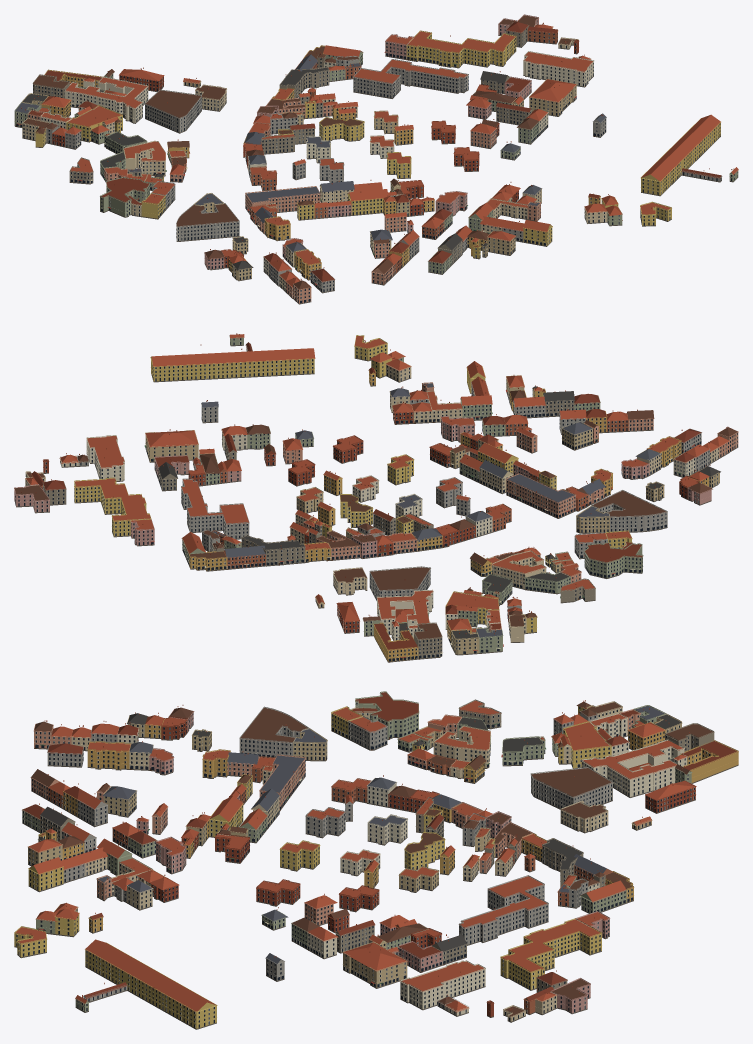
File: Budynki_1_0.fbx
3 renders of one model, top to bottom at view 1: azimuth 30°, elevation 25°; view 2: azimuth 150°, elevation 25°; view 3: azimuth 270°, elevation 25°, orthographic. The views are drawn at different scales.
Parts seen in each view (by area): view 1: Bud_160378947, Bud_186131377, Bud_374468691, Bud_184736116, Bud_175220055, Bud_1344859620, Bud_186131376, Bud_105250531, Bud_533948598, Bud_136489667, Bud_105250511, Bud_185828792 (+32 smaller); view 2: Bud_374468691, Bud_186131377, Bud_160378947, Bud_175220055, Bud_533948598, Bud_105250531, Bud_1344859620, Bud_184736116, Bud_136489667, Bud_186131376, Bud_105250511, Bud_185817449 (+37 smaller); view 3: Bud_374468691, Bud_160378947, Bud_186131377, Bud_184736116, Bud_1344859620, Bud_186131376, Bud_175220055, Bud_136489667, Bud_105250531, Bud_105250511, Bud_185159792, Bud_533948598 (+57 smaller).
Boxes of the visible parts, x1,y1,x2,y2 form: Bud_160378947: (353,59,468,98); Bud_186131377: (406,30,516,68); Bud_374468691: (640,114,720,196); Bud_184736116: (65,76,148,123); Bud_175220055: (176,203,239,241); Bud_1344859620: (145,89,201,133); Bud_186131376: (523,51,594,87); Bud_105250531: (100,177,150,217); Bud_533948598: (245,186,320,214); Bud_136489667: (529,79,577,116); Bud_105250511: (123,140,166,176); Bud_185828792: (319,117,364,141); Bud_374468691: (150,344,315,382); Bud_186131377: (74,477,151,537); Bud_160378947: (181,478,249,539); Bud_175220055: (591,490,667,532); Bud_533948598: (506,473,575,518); Bud_105250531: (584,542,643,578); Bud_1344859620: (369,566,430,600); Bud_184736116: (376,589,433,638); Bud_136489667: (144,429,198,462); Bud_186131376: (86,435,124,481); Bud_105250511: (492,550,546,589); Bud_185817449: (241,535,305,566); Bud_374468691: (85,939,217,1029); Bud_160378947: (458,875,548,945); Bud_186131377: (500,918,602,990); Bud_184736116: (581,739,684,797); Bud_1344859620: (530,767,612,809); Bud_186131376: (400,960,485,1010); Bud_175220055: (239,706,309,757); Bud_136489667: (342,942,407,988); Bud_105250531: (355,691,419,739); Bud_105250511: (433,725,490,768); Bud_185159792: (680,740,738,783); Bud_533948598: (259,754,305,811).
Size of the model in its own units: 541 by 20.1 by 518.
